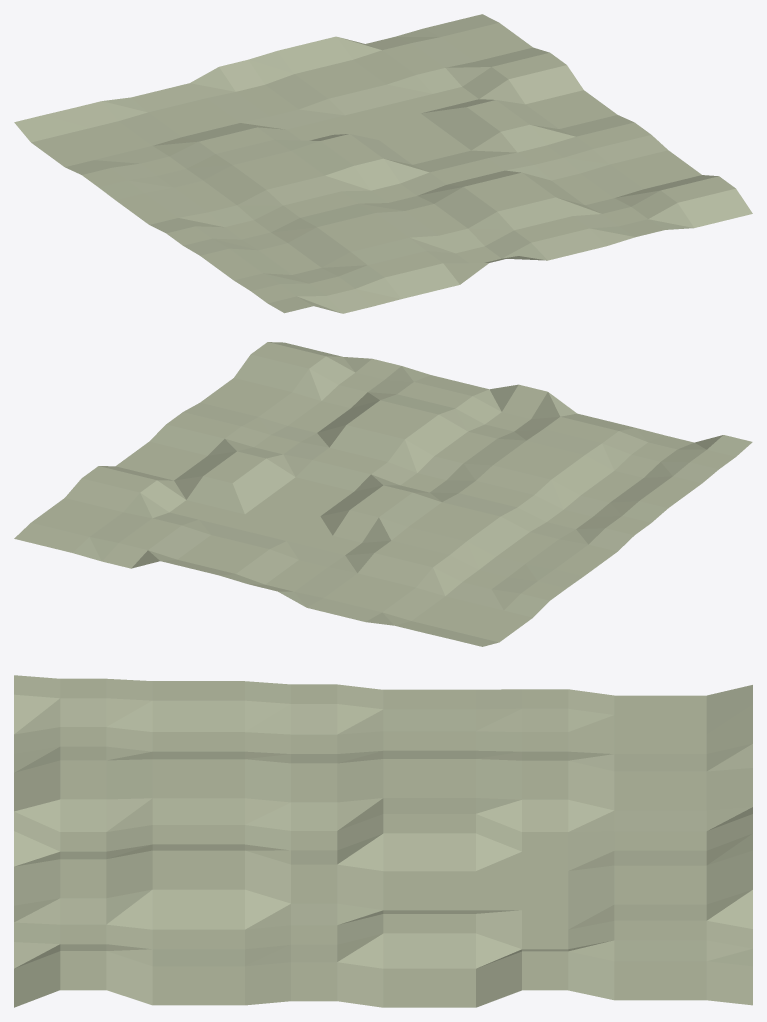
3 renders of one model, top to bottom at view 1: azimuth 30°, elevation 25°; view 2: azimuth 150°, elevation 25°; view 3: azimuth 270°, elevation 25°, orthographic. The views are drawn at different scales.
Size of the model in its own units: 32 by 0.9857 by 32.
